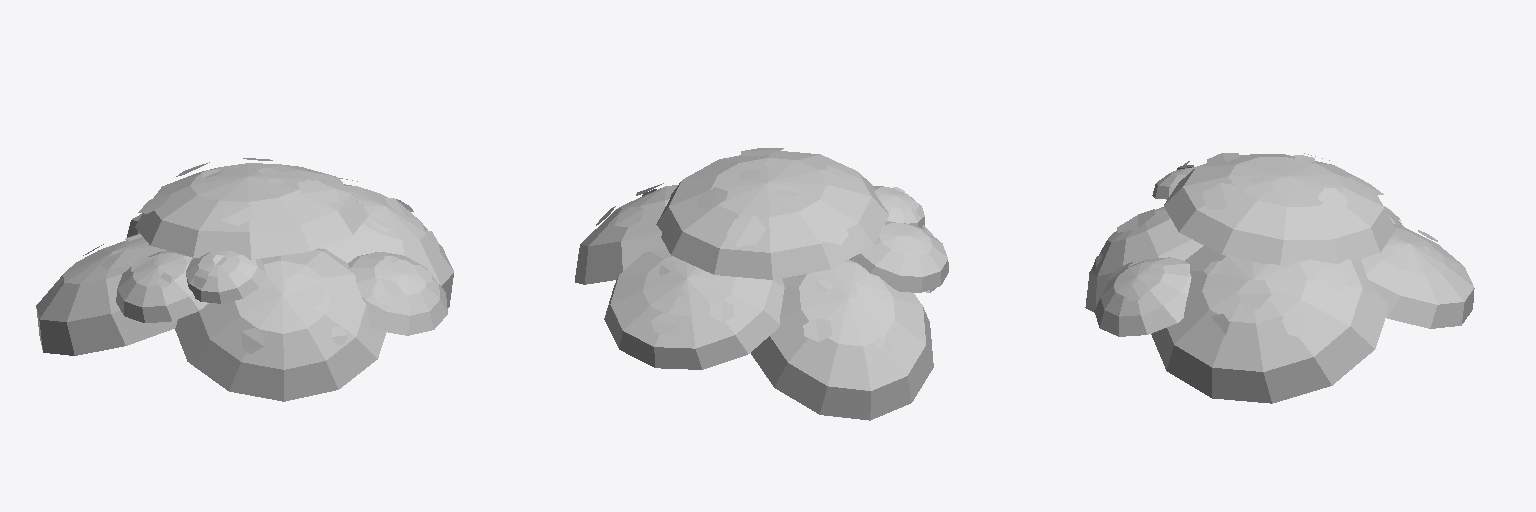
File: BuissonFleurs.obj
3 views of the same model, side by side, from view 1: azimuth 30°, elevation 25°; view 2: azimuth 150°, elevation 25°; view 3: azimuth 270°, elevation 25° (orthographic).
Parts seen in each view (by area): view 1: BuissonFleurs; view 2: BuissonFleurs; view 3: BuissonFleurs.
Part boxes in pixels (left/top/right/bottom): BuissonFleurs: left=36, top=158, right=453, bottom=401; BuissonFleurs: left=575, top=148, right=948, bottom=420; BuissonFleurs: left=1085, top=153, right=1474, bottom=403.
Bounding box in the file's own units: 53.25 × 23.95 × 50.3.